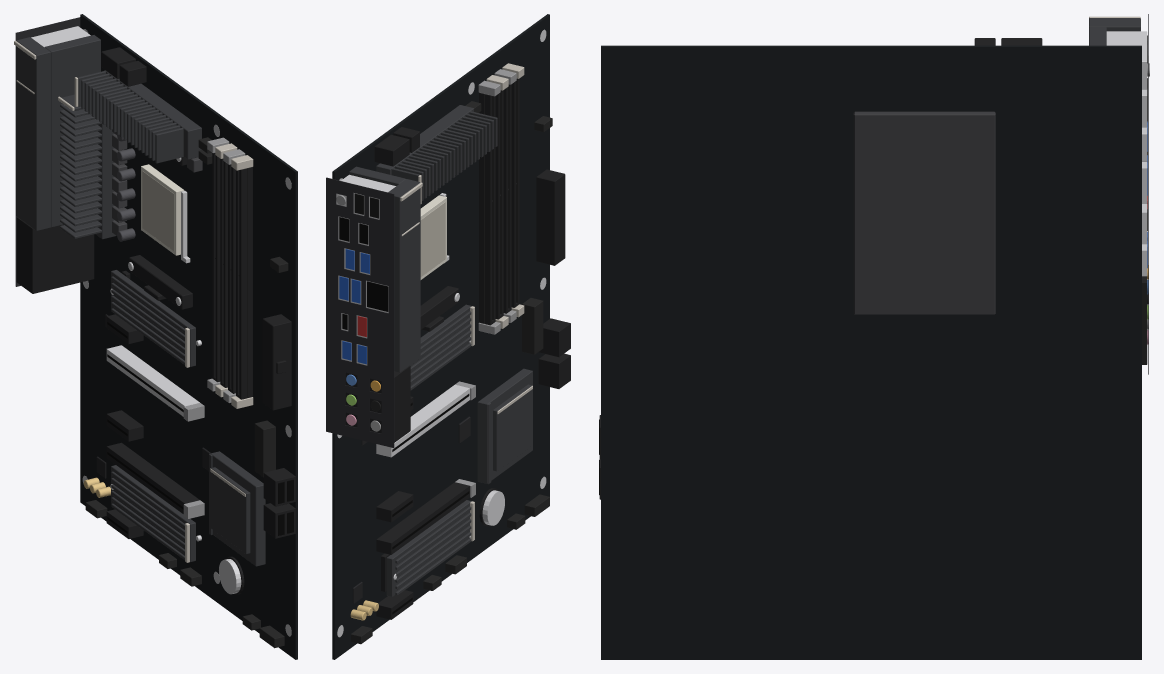
File: AM4_MB_ATX.glb
The picture shows the model from 3 angles, left to right: view 1: azimuth 30°, elevation 25°; view 2: azimuth 150°, elevation 25°; view 3: azimuth 270°, elevation 25°; orthographic projection. The views are drawn at different scales.
Visible parts, largest first — view 1: PCB, IO_Cover, VRM_Heatsink_Top, VRM_Heatsink_Left, Rear_IO, Chipset_Heatsink, DIMM_B2, M2_0_Heatsink, M2_1_Heatsink, Socket_AM4, Headers, Board_Components (+14 smaller); view 2: PCB, IO_Shield, Rear_IO, IO_Cover, VRM_Heatsink_Top, Chipset_Heatsink, M2_1_Heatsink, DIMM_A1, Headers, M2_0_Heatsink, Power_ATX24, PCIe_4_x16 (+12 smaller); view 3: PCB, CPU_Backplate, Rear_IO, IO_Cover.
Boxes of the visible parts, x1=… form: PCB: x1=80, y1=14, x2=297, y2=659; IO_Cover: x1=14, y1=35, x2=100, y2=230; VRM_Heatsink_Top: x1=74, y1=70, x2=201, y2=163; VRM_Heatsink_Left: x1=58, y1=94, x2=115, y2=239; Rear_IO: x1=16, y1=26, x2=94, y2=293; Chipset_Heatsink: x1=209, y1=451, x2=265, y2=566; DIMM_B2: x1=231, y1=155, x2=253, y2=408; M2_0_Heatsink: x1=110, y1=270, x2=195, y2=367; M2_1_Heatsink: x1=110, y1=465, x2=195, y2=562; Socket_AM4: x1=141, y1=164, x2=190, y2=263; Headers: x1=85, y1=137, x2=288, y2=648; Board_Components: x1=83, y1=129, x2=210, y2=497; PCB: x1=332, y1=14, x2=549, y2=659; IO_Shield: x1=326, y1=177, x2=394, y2=447; Rear_IO: x1=336, y1=174, x2=410, y2=442; IO_Cover: x1=349, y1=166, x2=422, y2=372; VRM_Heatsink_Top: x1=376, y1=105, x2=497, y2=203; Chipset_Heatsink: x1=477, y1=368, x2=532, y2=484; M2_1_Heatsink: x1=386, y1=500, x2=474, y2=596; DIMM_A1: x1=478, y1=80, x2=500, y2=334; Headers: x1=351, y1=101, x2=552, y2=644; M2_0_Heatsink: x1=410, y1=304, x2=474, y2=390; Power_ATX24: x1=536, y1=169, x2=565, y2=265; PCIe_4_x16: x1=376, y1=479, x2=475, y2=554; PCB: x1=601, y1=45, x2=1141, y2=659; CPU_Backplate: x1=853, y1=111, x2=995, y2=314; Rear_IO: x1=1106, y1=31, x2=1149, y2=364; IO_Cover: x1=1089, y1=16, x2=1140, y2=45.
Bounding box in the file's own units: 0.0486 × 0.305 × 0.2483.
